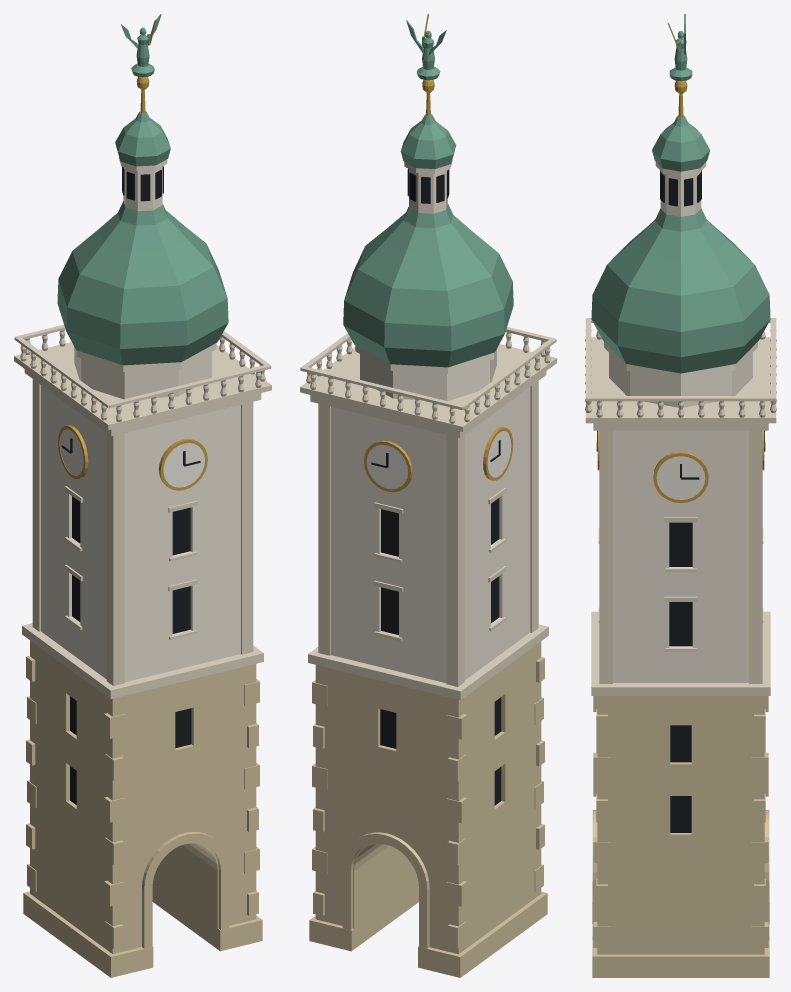
The model's file is michalska-brana.glb.
3 views of the same model, side by side, from view 1: azimuth 30°, elevation 25°; view 2: azimuth 150°, elevation 25°; view 3: azimuth 270°, elevation 25° (orthographic).
Bounding box in the file's own units: 9.86 × 52.16 × 9.86.
